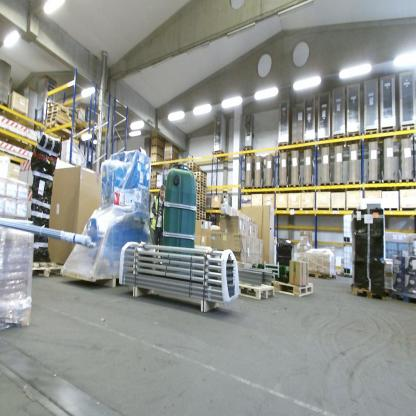pallet: (224, 279, 276, 303), (266, 276, 315, 301), (21, 257, 63, 283), (350, 283, 390, 299), (45, 121, 76, 138), (391, 289, 416, 306), (305, 268, 340, 279), (46, 114, 76, 126), (395, 123, 415, 139), (45, 118, 76, 127), (379, 126, 396, 142), (362, 128, 378, 144), (212, 147, 229, 162), (46, 106, 70, 116), (380, 176, 397, 190), (397, 177, 415, 188), (345, 130, 359, 144), (303, 137, 315, 153), (45, 111, 71, 118), (278, 141, 291, 155), (317, 180, 332, 192), (318, 137, 331, 150), (302, 179, 316, 191), (333, 132, 345, 146), (47, 102, 70, 109), (365, 179, 381, 189), (276, 182, 289, 194), (292, 140, 305, 152), (346, 180, 361, 190), (241, 147, 256, 157), (252, 182, 264, 194), (289, 182, 302, 193), (331, 182, 345, 191), (163, 158, 178, 166), (242, 184, 255, 193), (264, 185, 276, 194), (192, 169, 206, 175), (186, 162, 199, 168), (194, 174, 207, 180), (199, 183, 206, 190), (149, 187, 157, 193), (194, 172, 208, 175), (199, 194, 206, 200), (199, 181, 206, 187), (199, 178, 206, 184), (200, 174, 206, 181), (156, 186, 161, 194), (194, 175, 200, 181), (195, 184, 201, 190), (200, 205, 206, 211), (200, 203, 207, 208), (188, 165, 199, 168), (195, 181, 200, 187), (195, 187, 200, 193), (200, 208, 206, 213), (200, 192, 206, 197), (200, 187, 206, 192), (199, 216, 206, 220), (195, 179, 200, 184), (201, 189, 206, 194), (200, 211, 206, 215), (200, 201, 206, 205), (200, 200, 206, 204), (205, 216, 213, 219), (205, 219, 212, 222), (200, 198, 206, 201), (196, 195, 200, 199), (196, 203, 200, 207), (197, 191, 200, 196), (199, 214, 206, 216), (196, 200, 200, 203), (196, 207, 200, 210), (196, 209, 200, 212), (196, 212, 200, 215), (196, 215, 200, 218), (197, 198, 200, 201), (195, 218, 199, 220)
